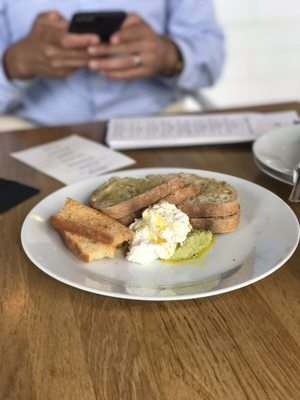soup: (49, 197, 135, 263)
